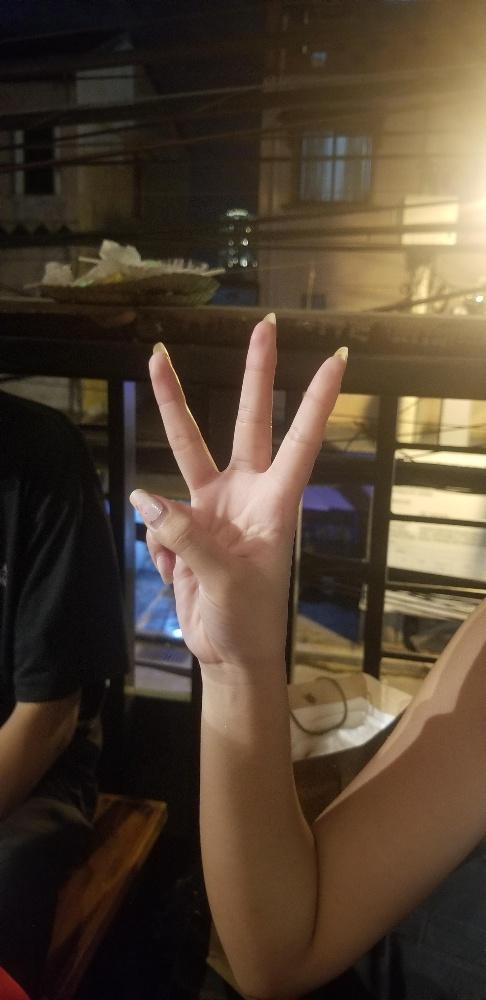w: (126, 309, 352, 662)
